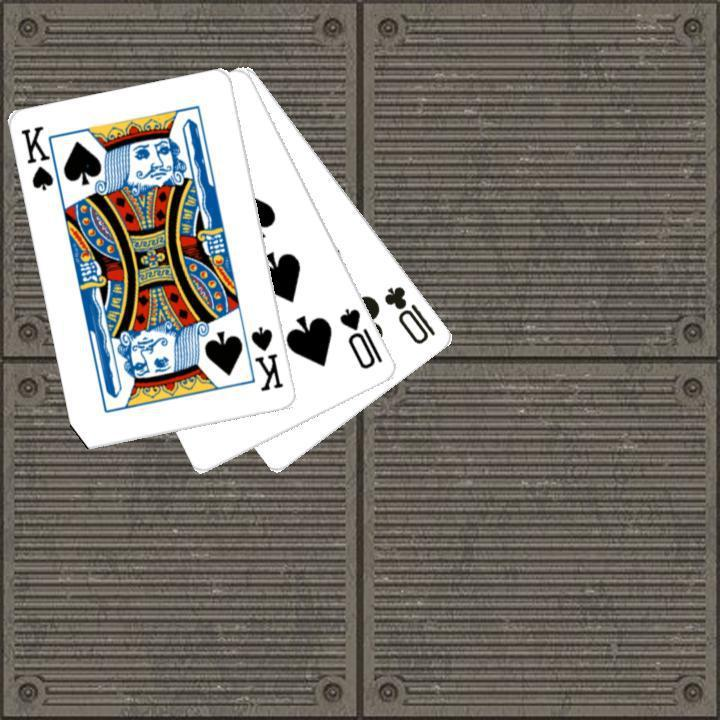10: (380, 281, 438, 347), (335, 304, 385, 372)
K: (17, 122, 65, 196), (247, 322, 286, 394)
